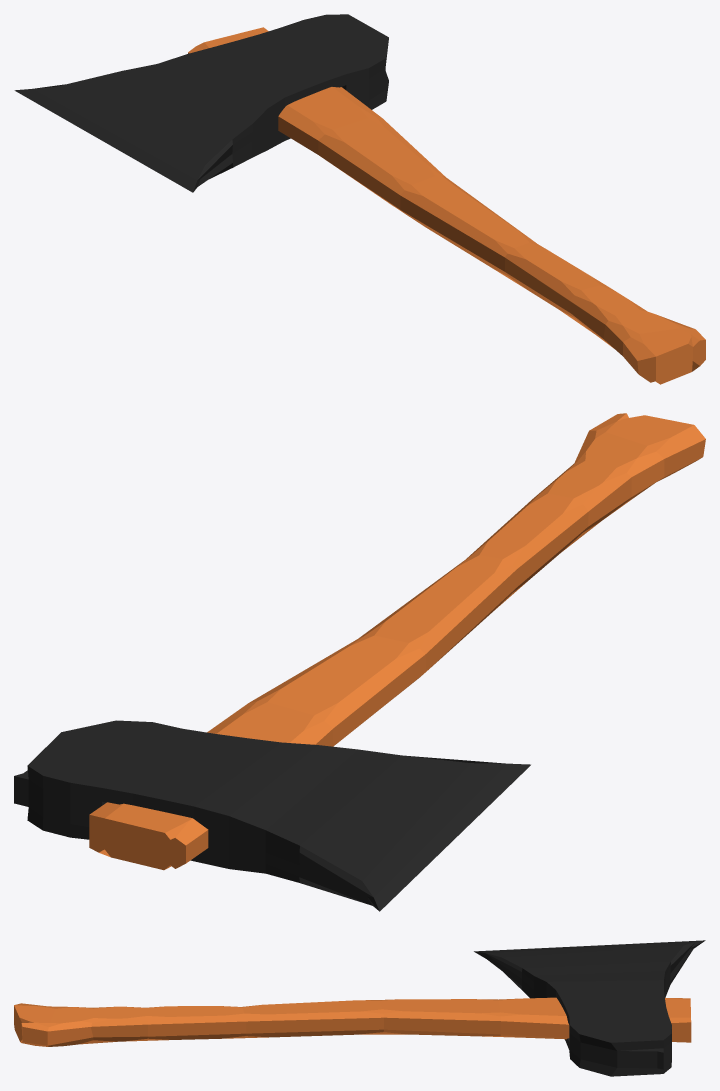
Rendered from Axe.fbx.
The picture shows the model from 3 angles, top to bottom: view 1: azimuth 30°, elevation 25°; view 2: azimuth 150°, elevation 25°; view 3: azimuth 270°, elevation 25°; orthographic projection. The views are drawn at different scales.
Visible parts, largest first — view 1: head.001; view 2: head.001; view 3: head.001.
Boxes of the visible parts, box(x1,y1,x2,y2) form: head.001: box(14, 14, 705, 384); head.001: box(14, 413, 705, 911); head.001: box(14, 940, 705, 1076).
Bounding box in the file's own units: 517 × 67.75 × 1257.
